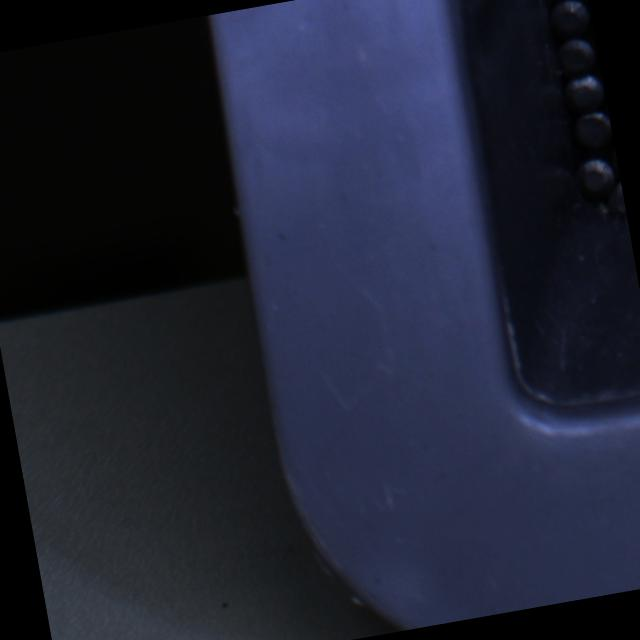tool: (574, 153, 618, 200), (562, 71, 606, 114), (570, 106, 614, 148), (556, 35, 598, 78), (547, 0, 592, 39)
